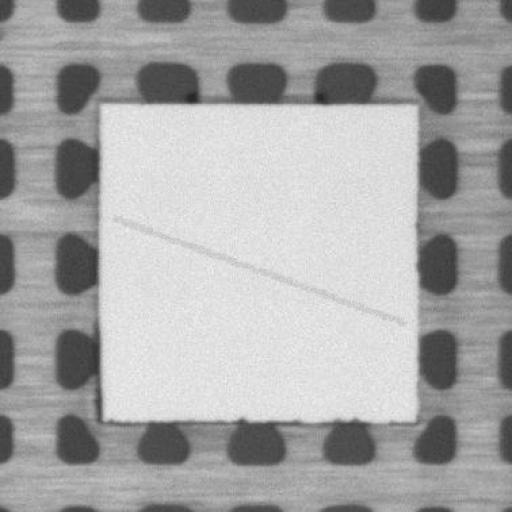DIE_CRACK: (114, 218, 401, 322)
